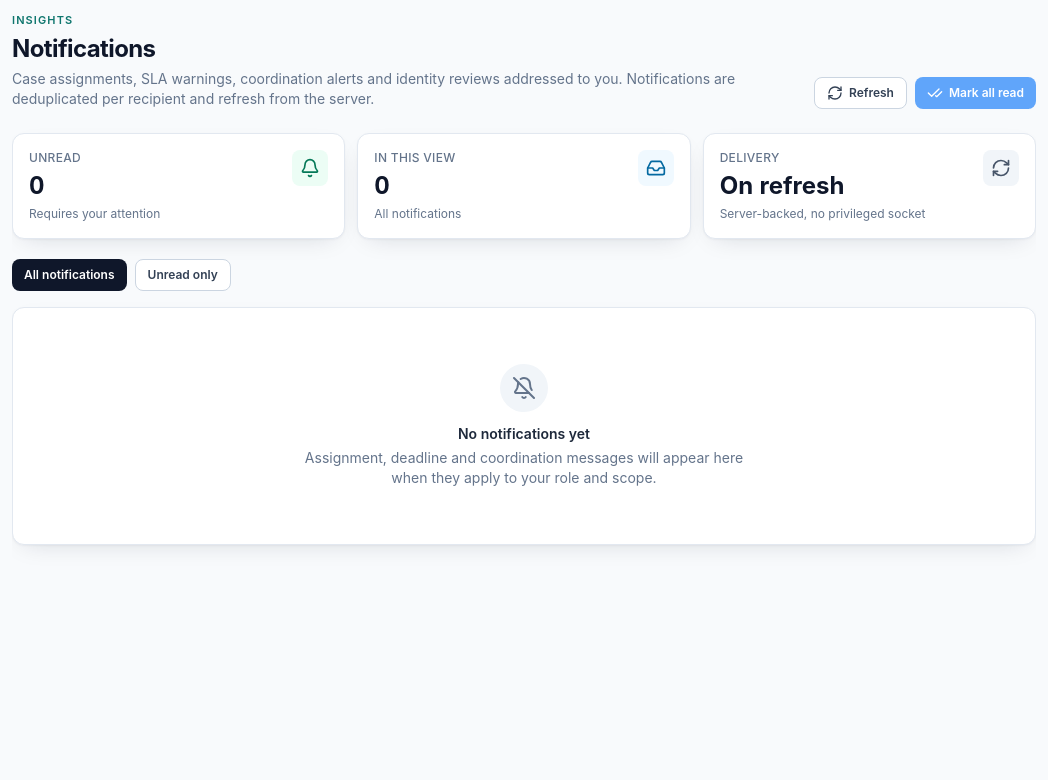
Notifications page › requests unread-only data when the filter is selected
Check: the text "No notifications yet" is shown, box [458,424,590,444]
Click the button "Unread only".
click(183, 274)  # box [135,258,231,290]
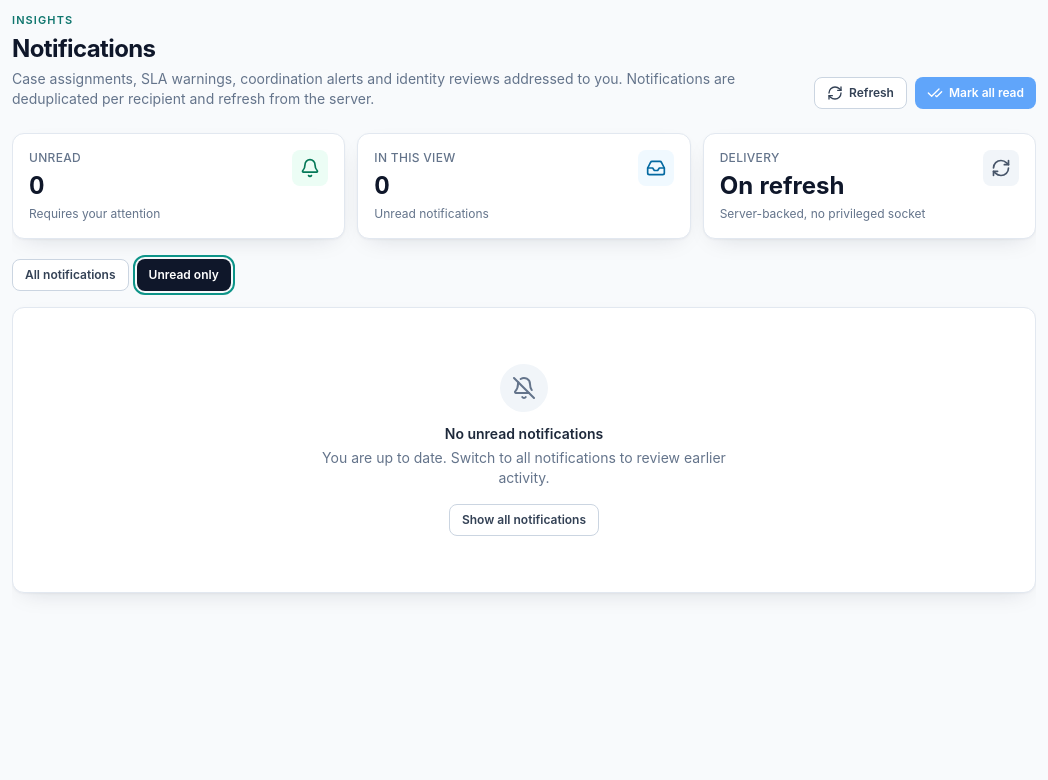
Check: the text "No unread notifications" is shown, box [445,424,603,444]
